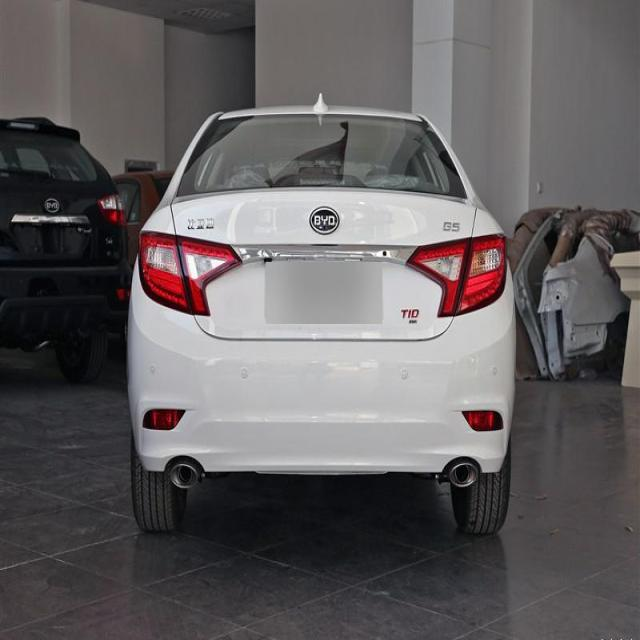back_glass: (174, 114, 466, 199)
back_left_side_light: (138, 228, 242, 317)
back_right_side_light: (404, 230, 509, 320)
rear_bumper: (124, 382, 512, 478)
wheel: (130, 434, 189, 532), (449, 445, 512, 536)
